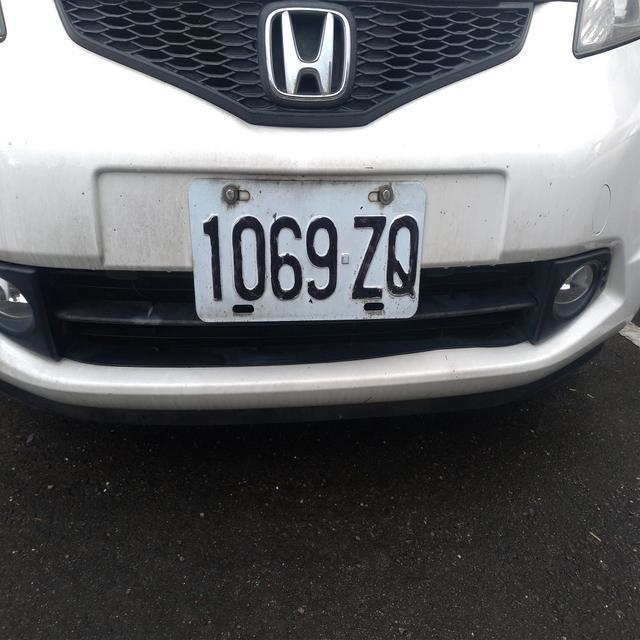license: (188, 203, 423, 312)
